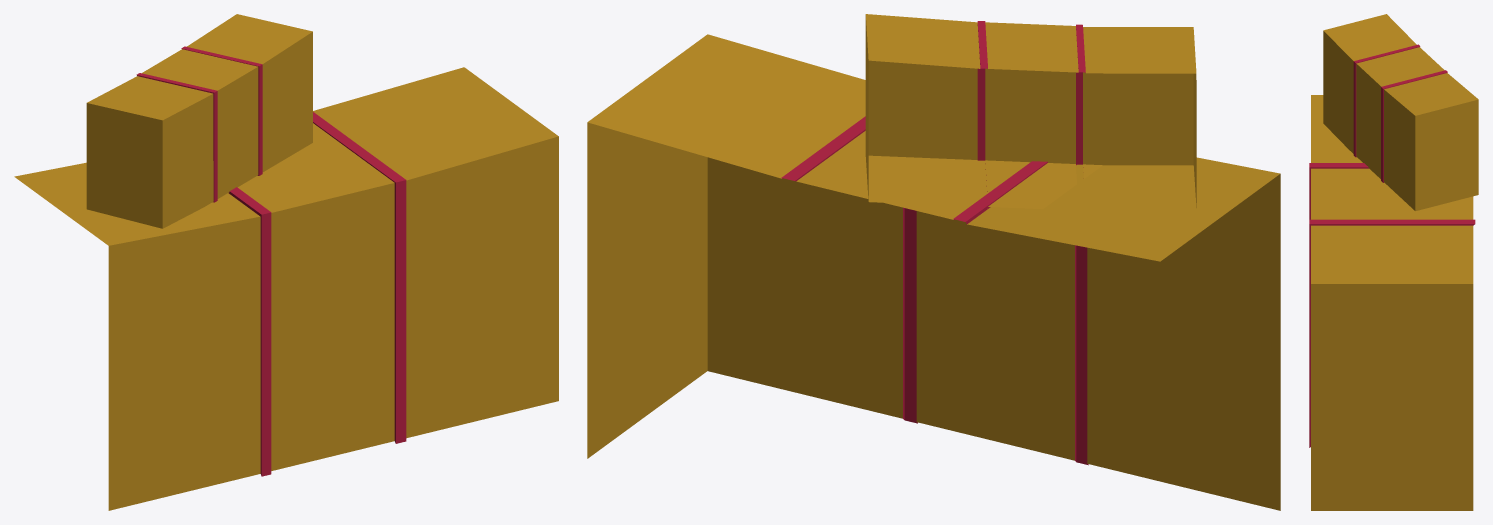
The model's file is montonHenoEspecial.fbx.
3 renders of one model, left to right at view 1: azimuth 30°, elevation 25°; view 2: azimuth 150°, elevation 25°; view 3: azimuth 270°, elevation 25°, orthographic. The views are drawn at different scales.
Visible parts, largest first — view 1: MontonHenoEspecial; view 2: MontonHenoEspecial; view 3: MontonHenoEspecial.
Part boxes in pixels (x1=…): MontonHenoEspecial: x1=14, y1=14, x2=558, y2=510; MontonHenoEspecial: x1=587, y1=14, x2=1280, y2=510; MontonHenoEspecial: x1=1309, y1=14, x2=1478, y2=510.
Size of the model in its own units: 2.31 by 1.83 by 0.8782.
